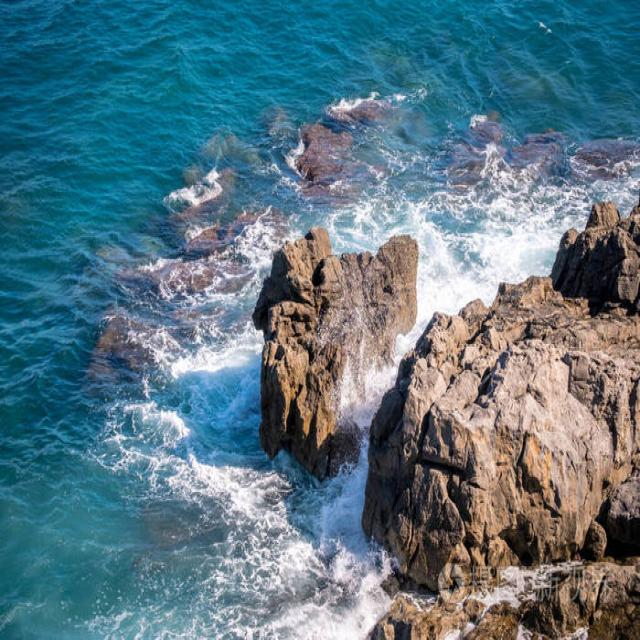reef: (214, 212, 421, 428), (274, 116, 400, 212)
